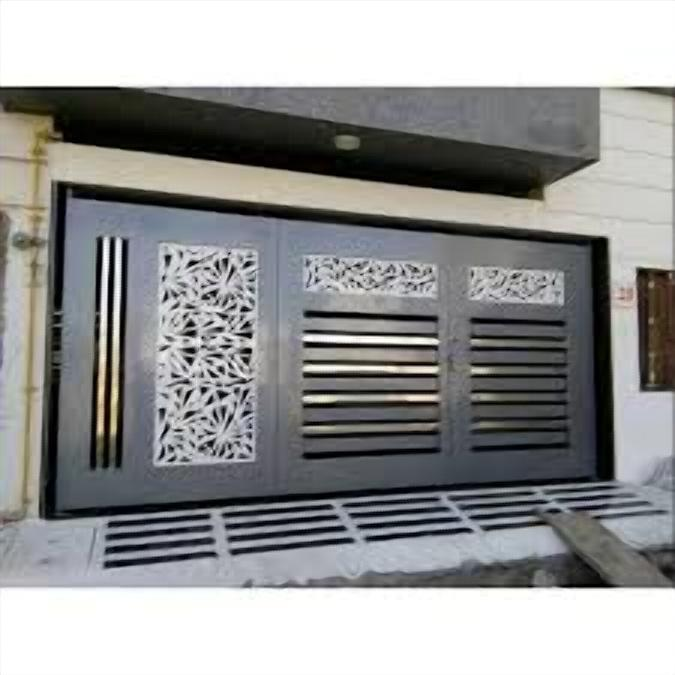Gate: (49, 192, 595, 514)
Window-without-grill: (638, 267, 675, 395)
